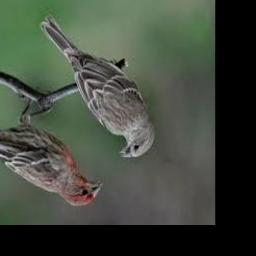Sparrow: (40, 15, 155, 158), (0, 98, 102, 206)
